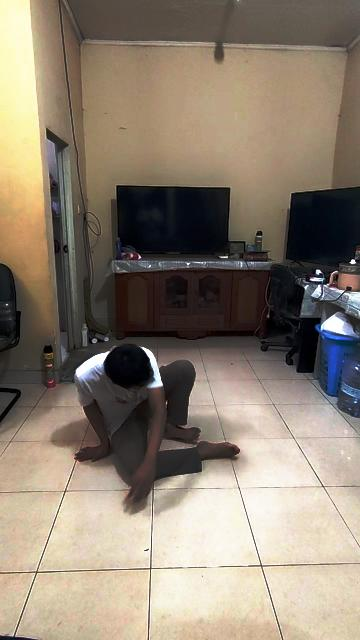jatuh: (64, 342, 240, 508)
